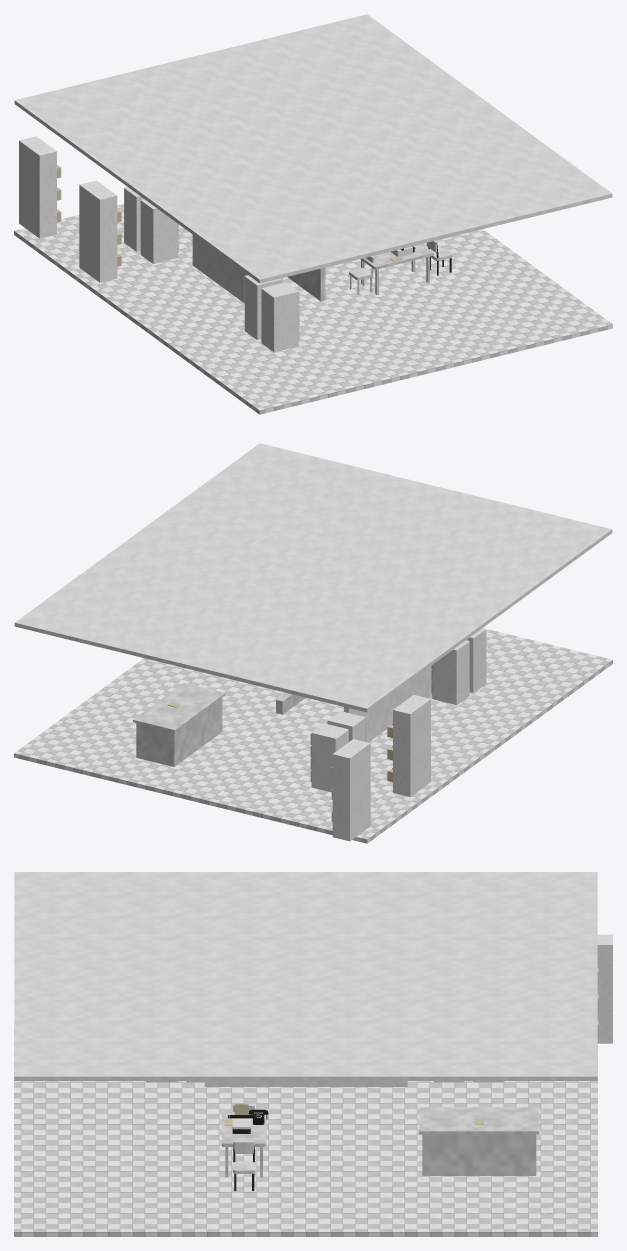
The model's file is SM_Town_Sheriff_Interior.glb.
The picture shows the model from 3 angles, top to bottom: view 1: azimuth 30°, elevation 25°; view 2: azimuth 150°, elevation 25°; view 3: azimuth 270°, elevation 25°; orthographic projection. The views are drawn at different scales.
Parts seen in each view (by area): view 1: SM_Town_Sheriff_Interior; view 2: SM_Town_Sheriff_Interior; view 3: SM_Town_Sheriff_Interior.
Boxes of the visible parts, box(x1,y1,x2,y2) form: SM_Town_Sheriff_Interior: box(14, 14, 612, 414); SM_Town_Sheriff_Interior: box(14, 443, 612, 843); SM_Town_Sheriff_Interior: box(14, 872, 612, 1236).
Size of the model in its own units: 9.8 by 3.57 by 12.1.
15 materials, 9 textured.
